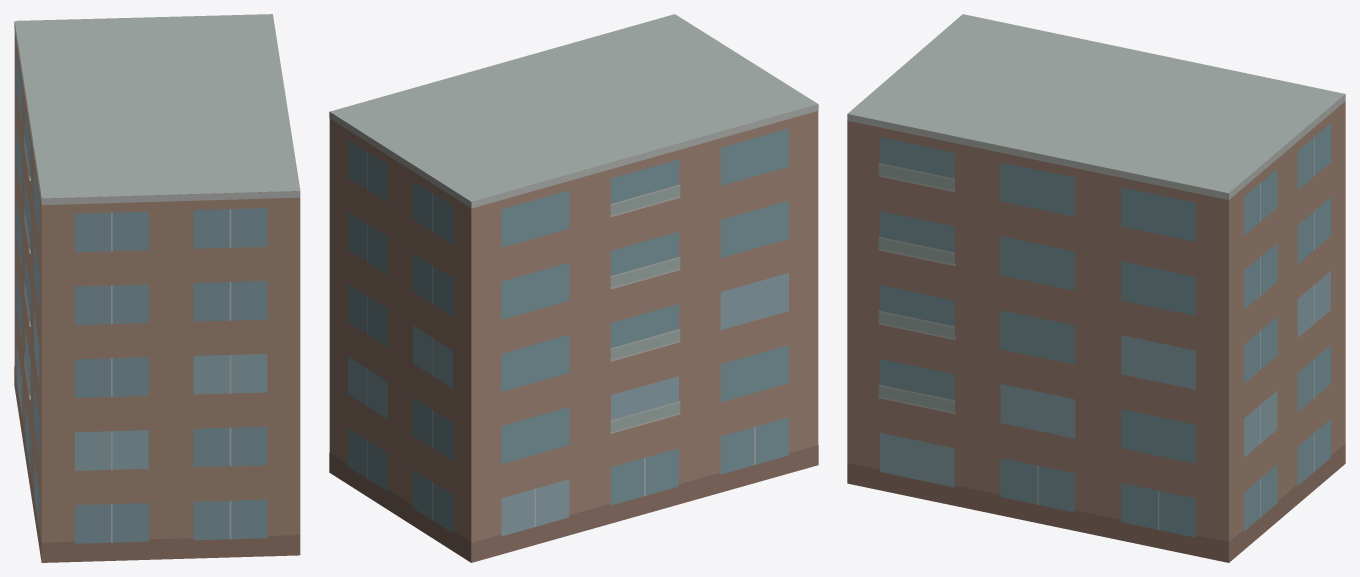
File: survey-upis-32946459.glb
3 views of the same model, side by side, from view 1: azimuth 30°, elevation 25°; view 2: azimuth 150°, elevation 25°; view 3: azimuth 270°, elevation 25° (orthographic). The views are drawn at different scales.
Visible parts, largest first — view 1: survey-upis-32946459.tmp; view 2: survey-upis-32946459.tmp; view 3: survey-upis-32946459.tmp.
Boxes of the visible parts, box(x1,y1,x2,y2) form: survey-upis-32946459.tmp: box(14, 14, 300, 562); survey-upis-32946459.tmp: box(329, 14, 818, 562); survey-upis-32946459.tmp: box(847, 14, 1345, 562).
Size of the model in its own units: 13.74 by 13.2 by 16.14.
